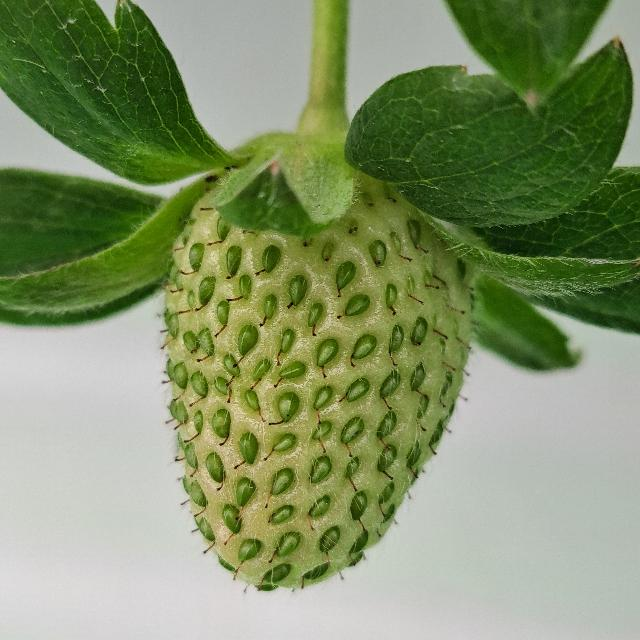Health_25: (164, 170, 470, 588)
